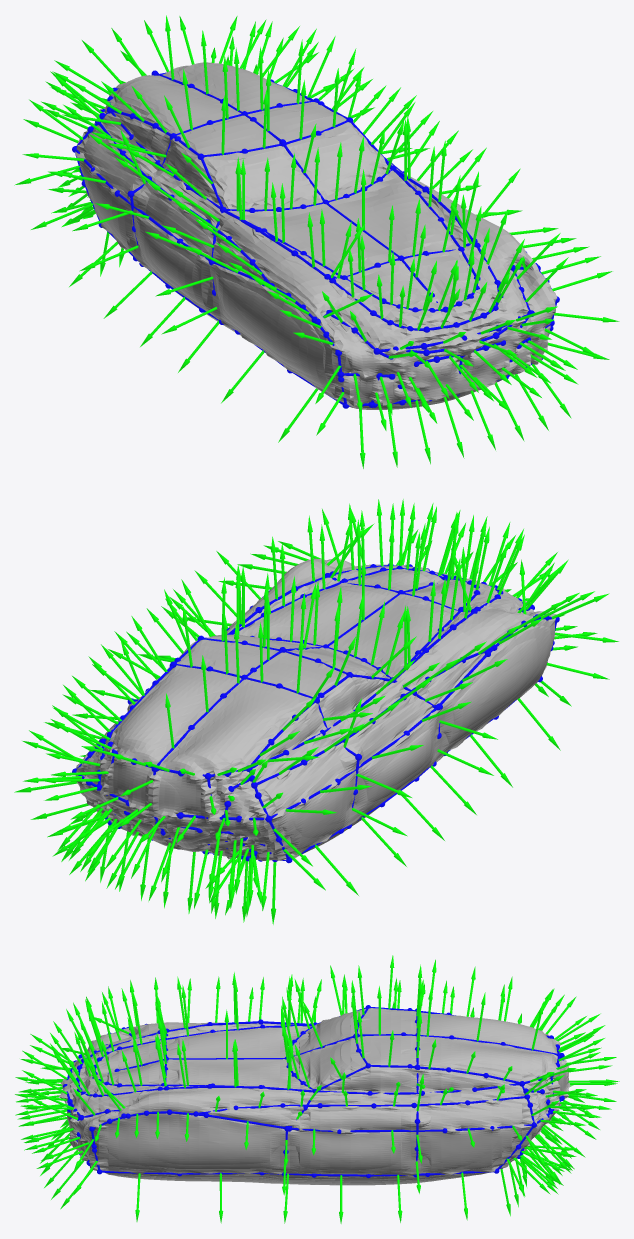
The model's file is ils_car1.gltf.
The picture shows the model from 3 angles, top to bottom: view 1: azimuth 30°, elevation 25°; view 2: azimuth 150°, elevation 25°; view 3: azimuth 270°, elevation 25°; orthographic projection. The views are drawn at different scales.
Bounding box in the file's own units: 0.5774 × 0.3956 × 1.1.
